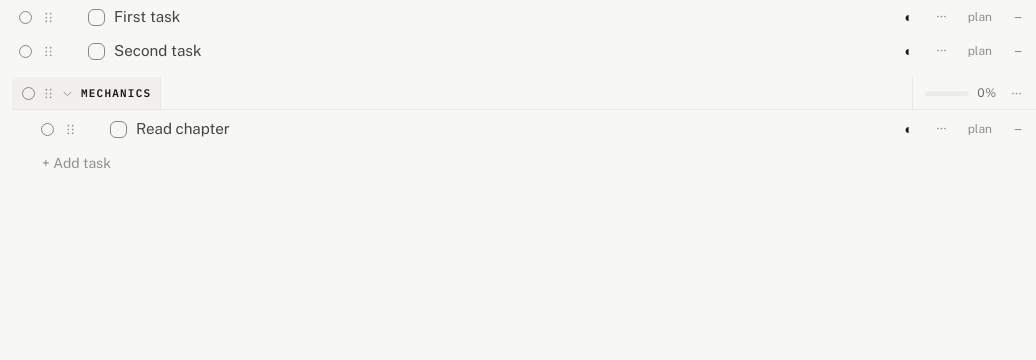
Test: the ⋯ menu › makes a leaf a milestone, and says so the next time it opens
Click the button named "Actions for \"First task\"".
click(942, 17)  # box [930,5,954,29]
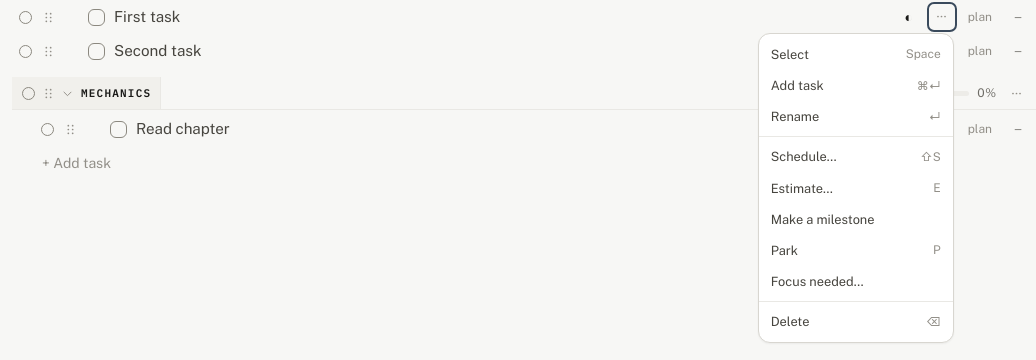
Click the menu item "Make a milestone".
click(856, 219)  # box [759,204,953,235]
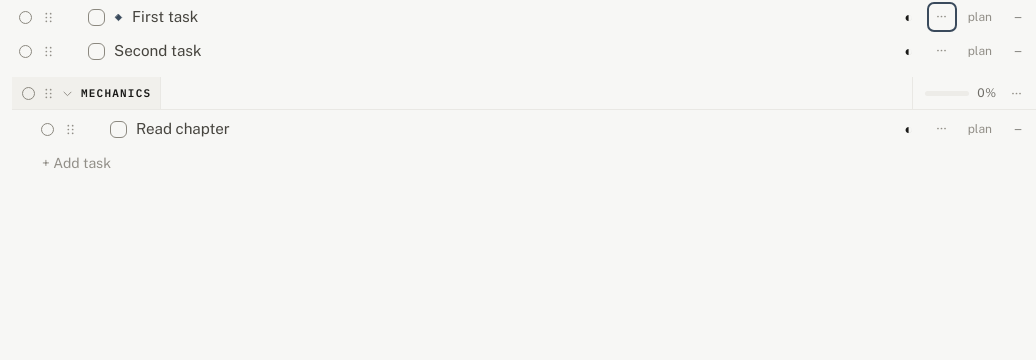
Click the button named "Actions for \"First task\"".
click(942, 17)  # box [930,5,954,29]
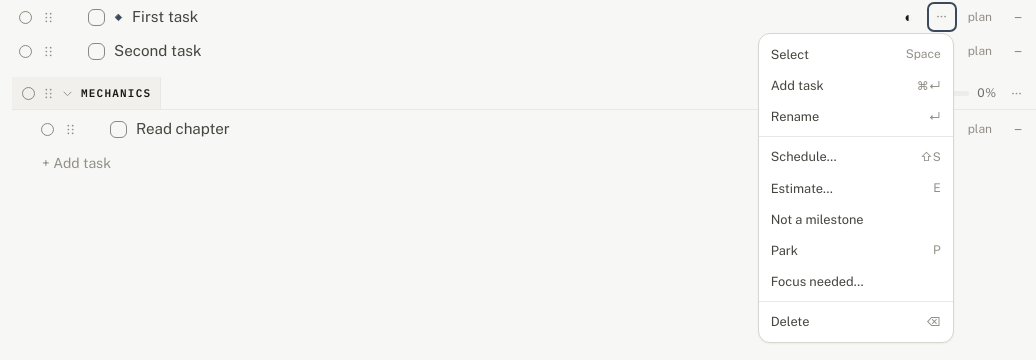
Expected: the menu item "Not a milestone" is shown, [759,204,953,235]
